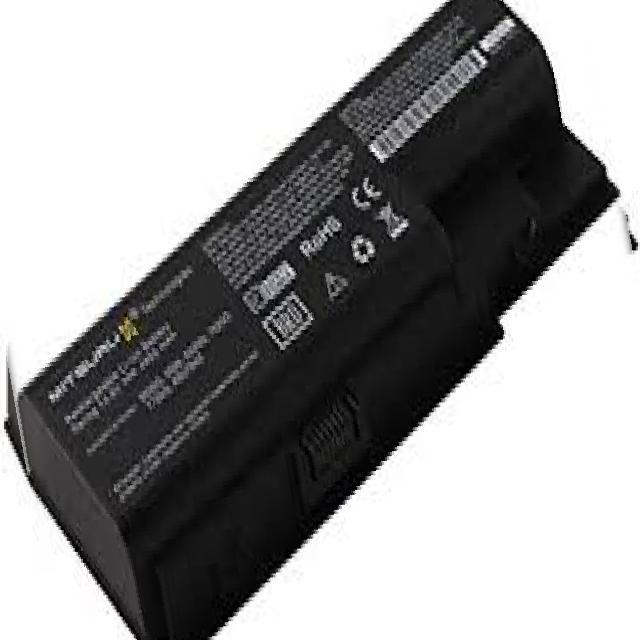Battery: (3, 0, 640, 640)
